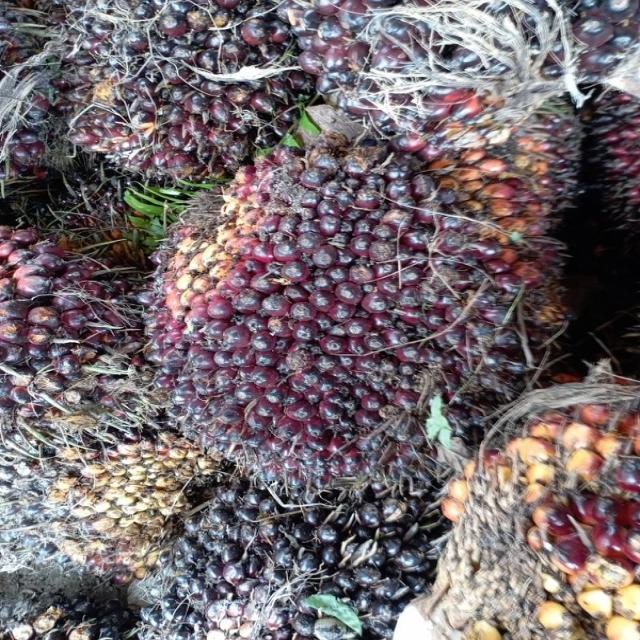fraksi 00: (155, 457, 420, 640)
fraksi 1: (146, 145, 521, 488), (38, 0, 285, 177)
